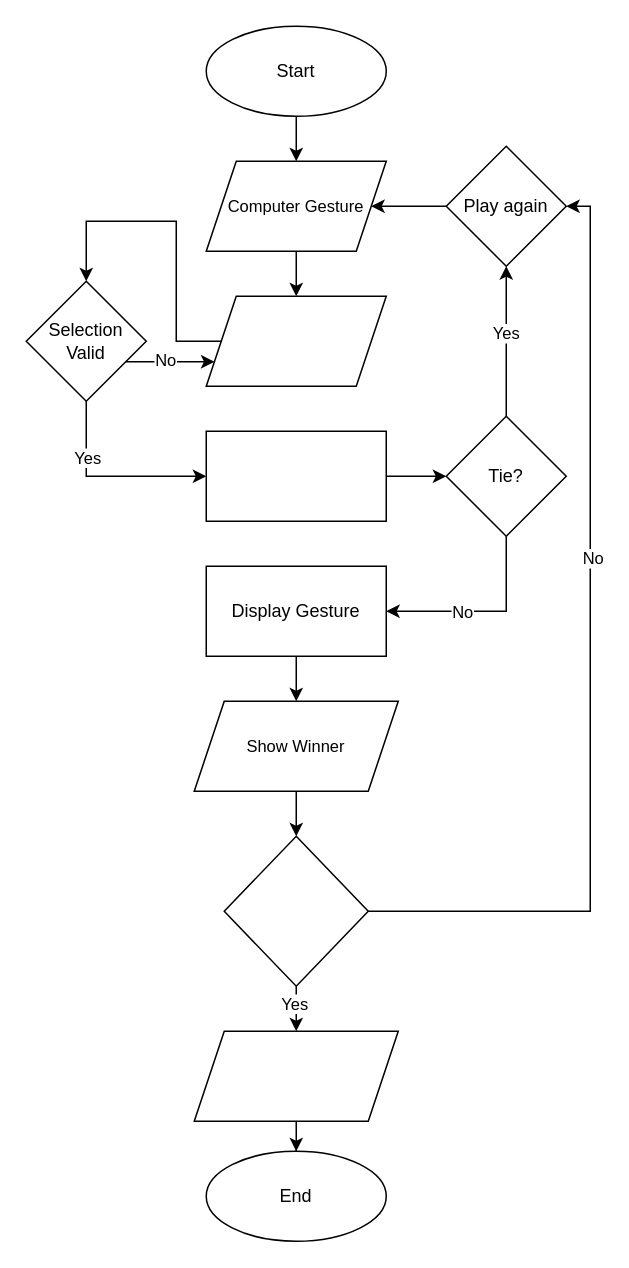
The diagram is 629 pixels wide and 1268 high, and some of its shapes have lost their labels. The shapes that lost their labels are listed below. From the top down, each one's centre as x and y in pixels, then its label:
At pixel 295 340: "Human Gesture".
At pixel 295 475: "Determine Winner".
At pixel 295 910: "3 Rounds or Score of 2".
At pixel 295 1075: "Show Game Winner".
